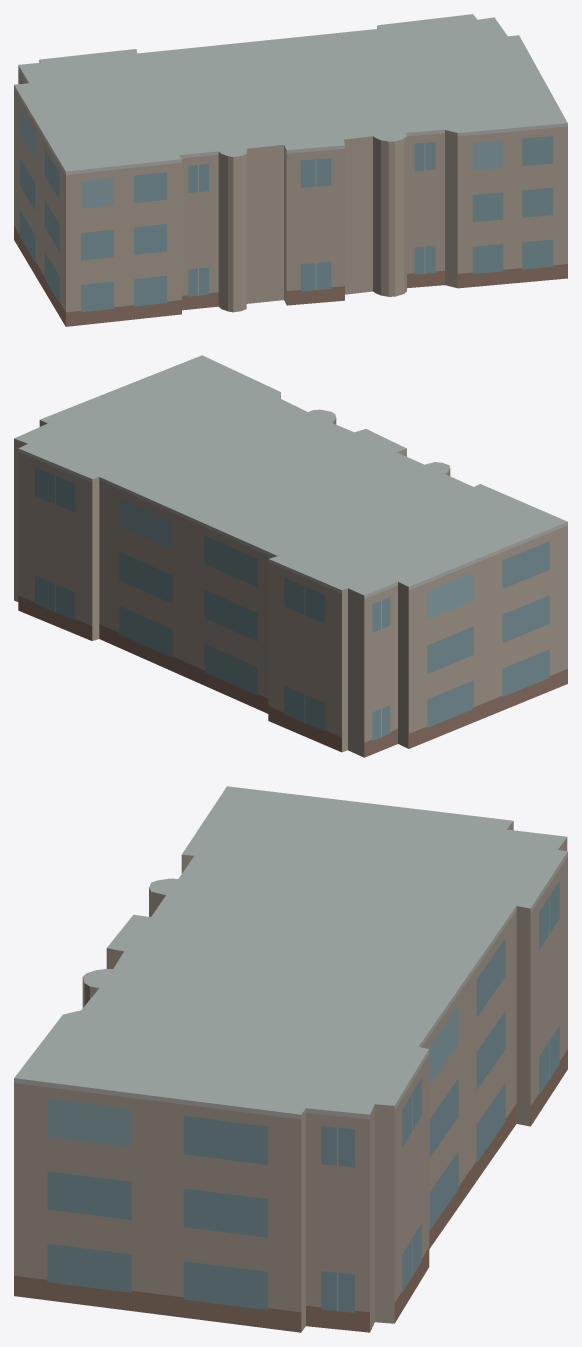
The model's file is survey-upis-32859677.glb.
3 renders of one model, top to bottom at view 1: azimuth 30°, elevation 25°; view 2: azimuth 150°, elevation 25°; view 3: azimuth 270°, elevation 25°, orthographic. The views are drawn at different scales.
Visible parts, largest first — view 1: survey-upis-32859677.tmp; view 2: survey-upis-32859677.tmp; view 3: survey-upis-32859677.tmp.
Boxes of the visible parts, bbox=[...] form: survey-upis-32859677.tmp: bbox=[14, 14, 567, 326]; survey-upis-32859677.tmp: bbox=[14, 355, 567, 757]; survey-upis-32859677.tmp: bbox=[14, 786, 567, 1332].
Bounding box in the file's own units: 36.06 × 11.15 × 25.69.
